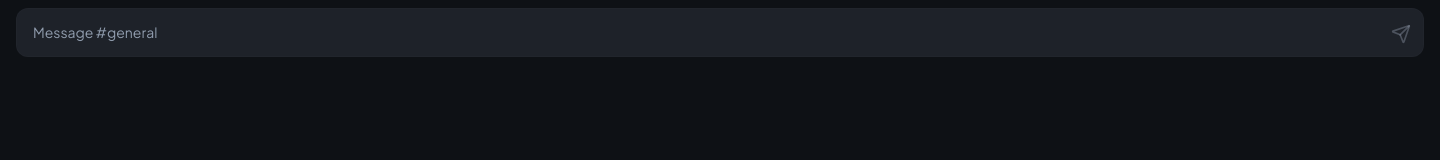
Test: Chat components › MessageInput › awaits sendMessage with trimmed text and clears input
Type "  Hello peers!  " into the text box with placeholder "Message #general" at (698, 32), box 17,9 -> 1379,56
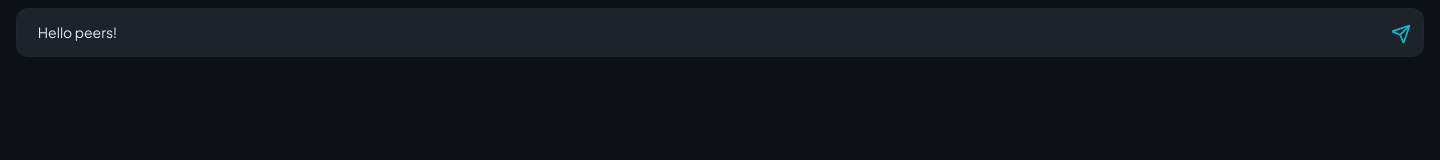
Press Enter in the text box with placeholder "Message #general", box 17,9 -> 1379,56
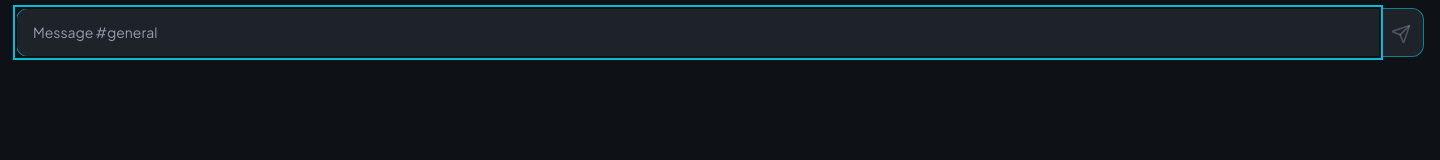
Result: the text box with placeholder "Message #general" is empty at 17,9 -> 1379,56
